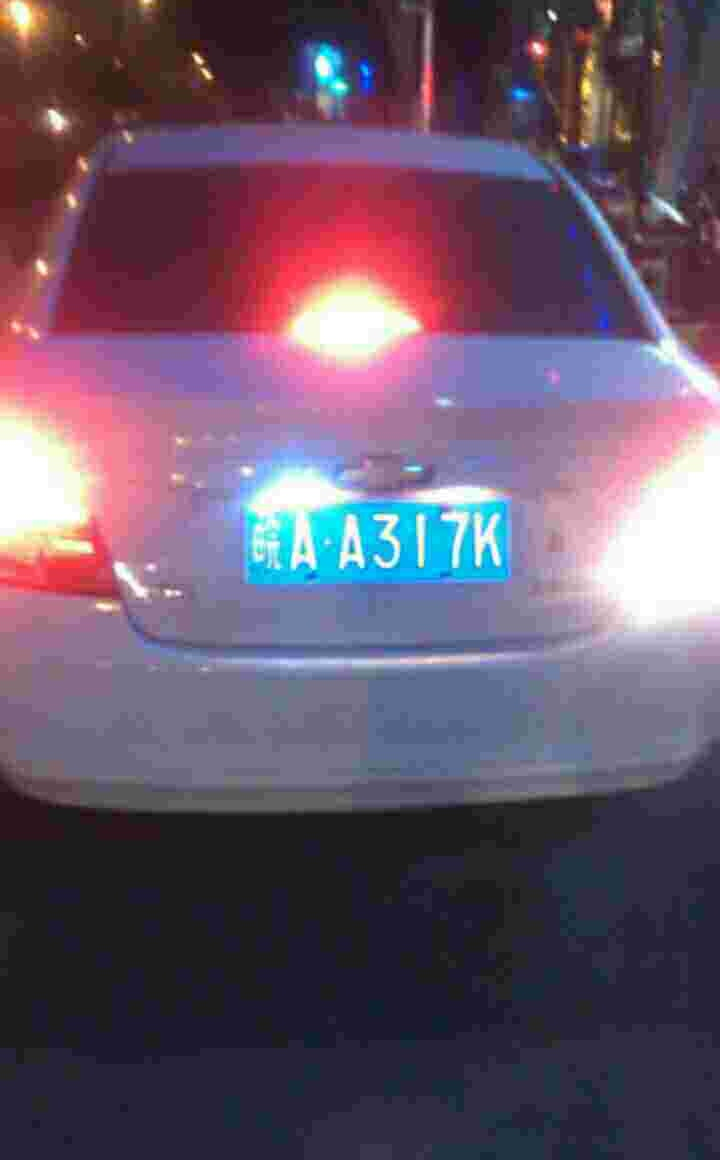license_plate: (238, 489, 524, 592)
